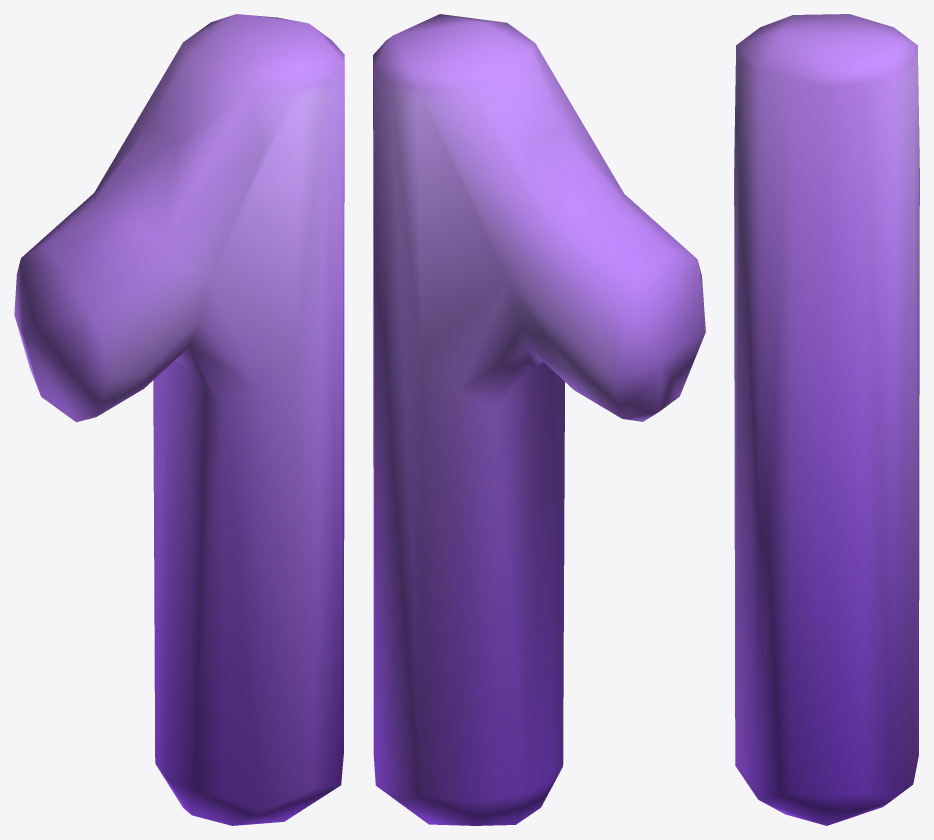
3 renders of one model, left to right at view 1: azimuth 30°, elevation 25°; view 2: azimuth 150°, elevation 25°; view 3: azimuth 270°, elevation 25°, orthographic.
Parts seen in each view (by area): view 1: Processed_Mesh0_Geometry; view 2: Processed_Mesh0_Geometry; view 3: Processed_Mesh0_Geometry.
Boxes of the visible parts, x1,y1,x2,y2 form: Processed_Mesh0_Geometry: (14, 14, 344, 825); Processed_Mesh0_Geometry: (373, 14, 705, 825); Processed_Mesh0_Geometry: (734, 14, 919, 825).
Size of what is drawn, in the model's own units: 0.0321 by 0.0809 by 0.0174.
1 material, 1 textured.
